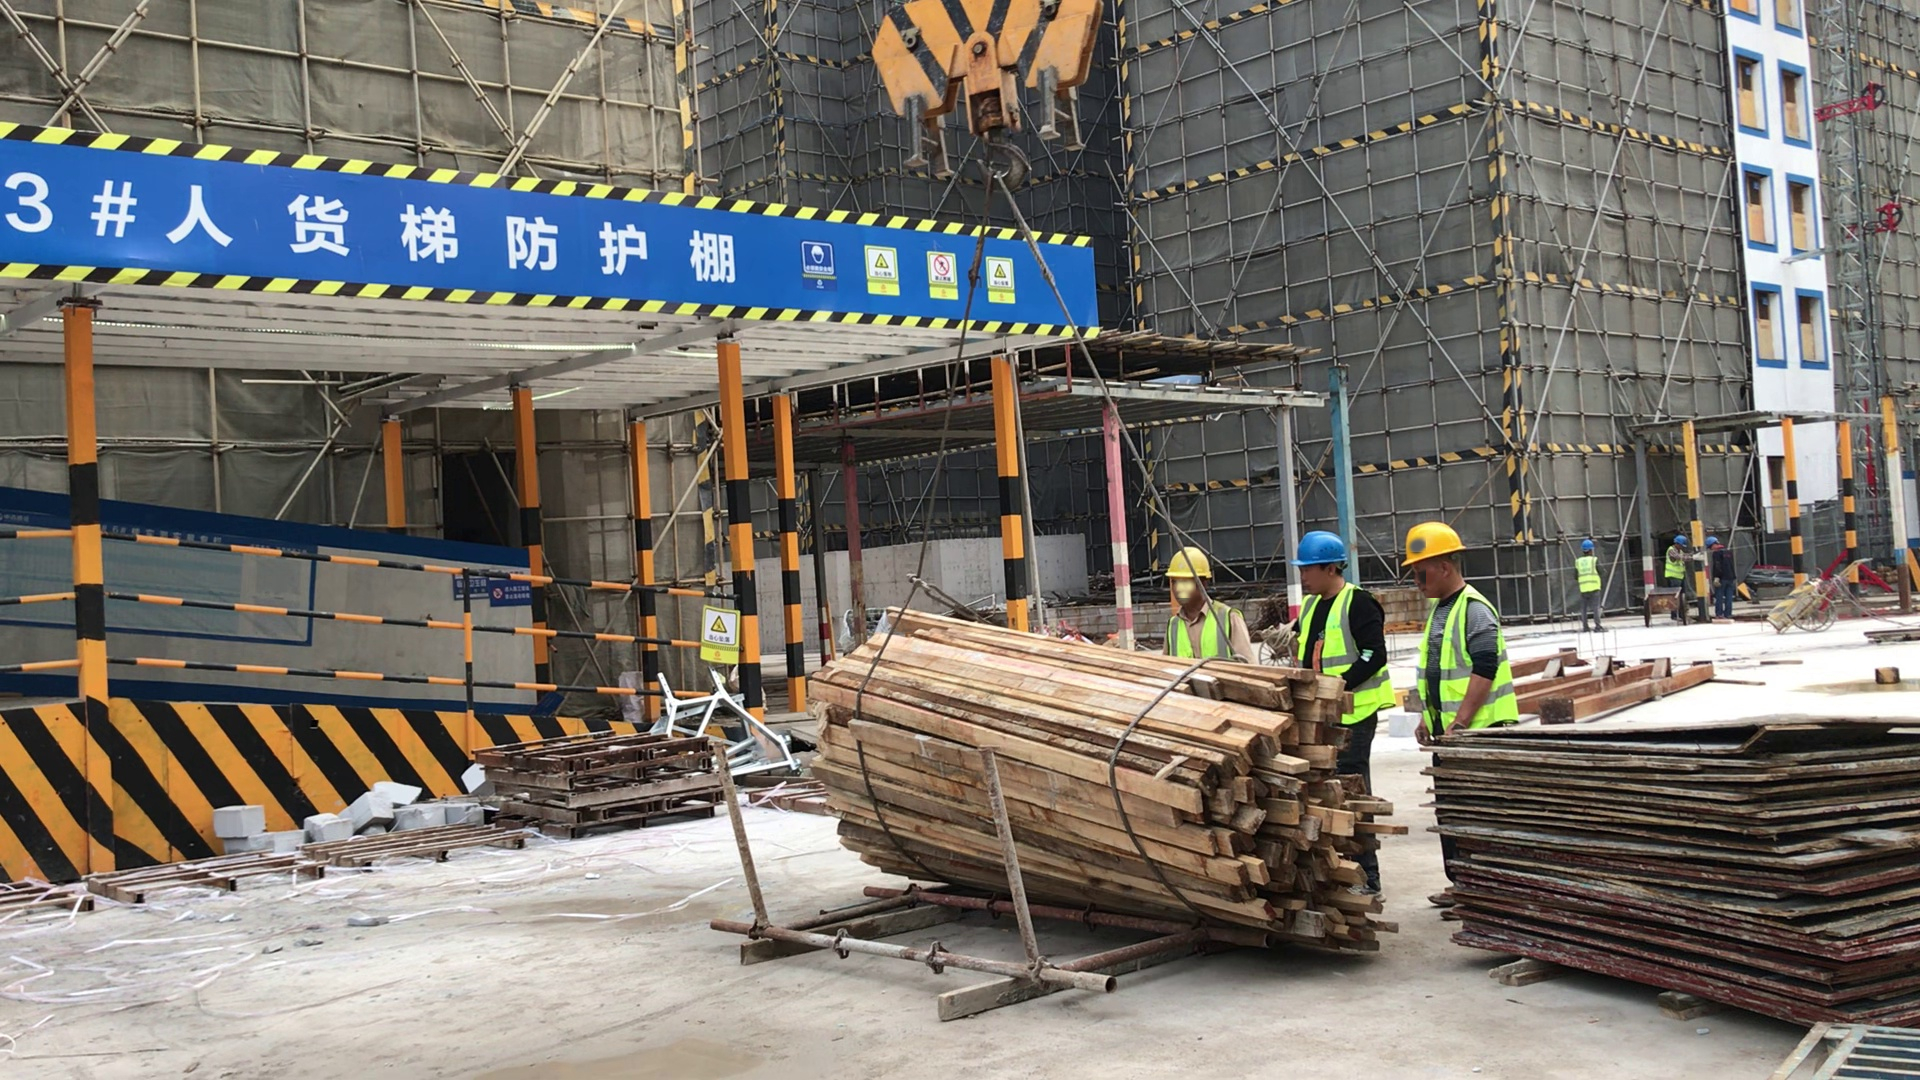board: (1400, 668, 1920, 1043)
brick: (199, 781, 525, 880)
fence: (2, 509, 768, 718)
handcart: (1763, 556, 1875, 639), (1633, 585, 1690, 626), (1254, 622, 1302, 665)
helmet: (1165, 533, 1243, 589), (1402, 524, 1467, 579), (1293, 531, 1363, 574), (1577, 536, 1599, 553), (1671, 531, 1691, 550), (1705, 531, 1722, 550)
hook: (834, 1, 1146, 269)
person: (1275, 530, 1400, 927), (1383, 508, 1551, 795), (1143, 527, 1259, 666), (1570, 537, 1611, 636), (1701, 530, 1739, 630), (1664, 530, 1694, 627)
slogan: (2, 108, 1140, 376), (1, 493, 564, 715), (690, 599, 746, 677)
vest: (1409, 588, 1524, 735), (1286, 584, 1390, 727), (1160, 600, 1236, 664), (1658, 544, 1689, 589), (1573, 555, 1605, 595)
wood: (803, 600, 1407, 974)
